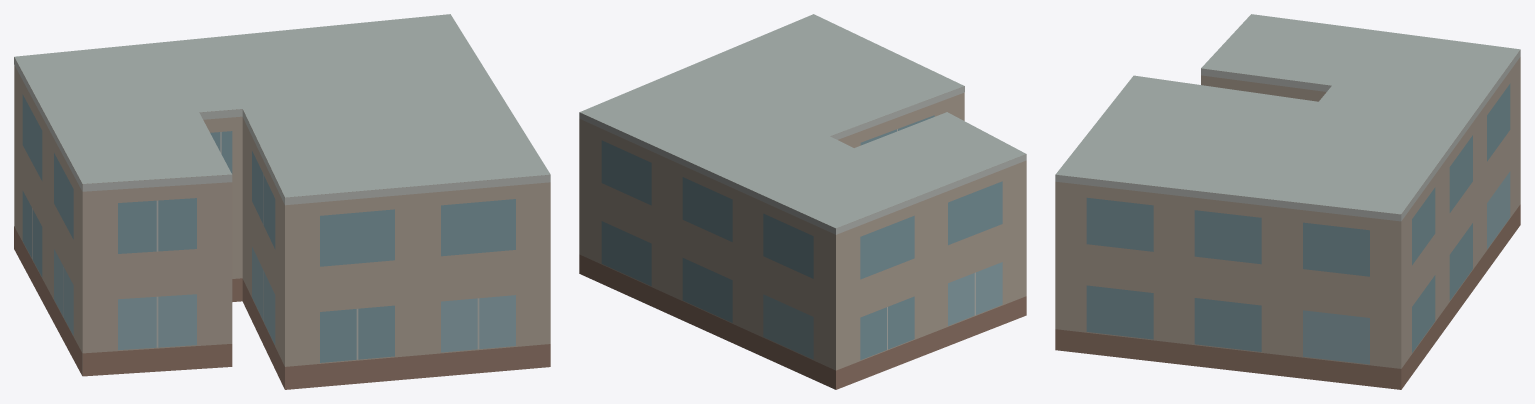
Rendered from survey-upis-32755623.glb.
3 renders of one model, left to right at view 1: azimuth 30°, elevation 25°; view 2: azimuth 150°, elevation 25°; view 3: azimuth 270°, elevation 25°, orthographic. The views are drawn at different scales.
Parts seen in each view (by area): view 1: survey-upis-32755623.tmp; view 2: survey-upis-32755623.tmp; view 3: survey-upis-32755623.tmp.
Boxes of the visible parts, <box> form: survey-upis-32755623.tmp: <box>14,14,550,389</box>; survey-upis-32755623.tmp: <box>579,14,1026,389</box>; survey-upis-32755623.tmp: <box>1055,14,1520,389</box>.
Bounding box in the file's own units: 14.96 × 6.1 × 14.67.
